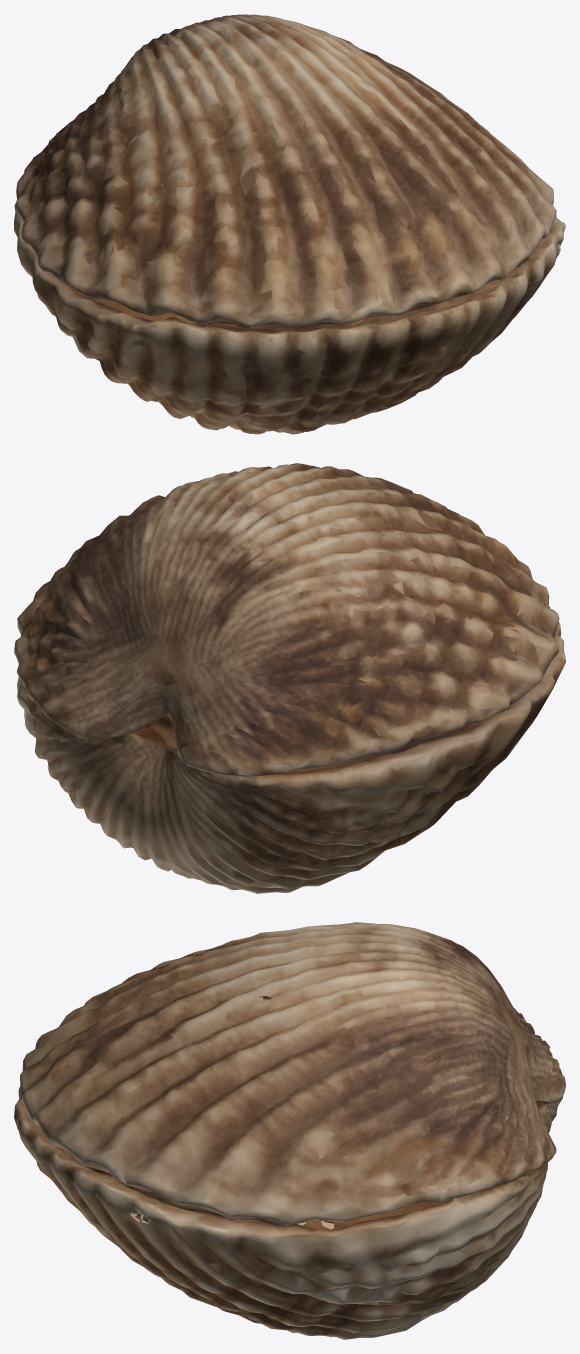
3 views of the same model, one above another, from view 1: azimuth 30°, elevation 25°; view 2: azimuth 150°, elevation 25°; view 3: azimuth 270°, elevation 25° (orthographic).
Parts seen in each view (by area): view 1: Mesh_0; view 2: Mesh_0; view 3: Mesh_0.
Part boxes in pixels (box(x1,y1,x2,y2)): Mesh_0: box(14, 14, 565, 434); Mesh_0: box(14, 463, 565, 893); Mesh_0: box(14, 922, 565, 1339).
Bounding box in the file's own units: 0.1569 × 0.1179 × 0.16.
Materials: 1 (1 with a texture image).
